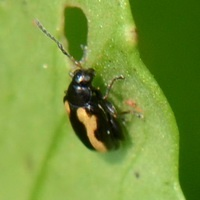insect: (34, 19, 142, 151)
